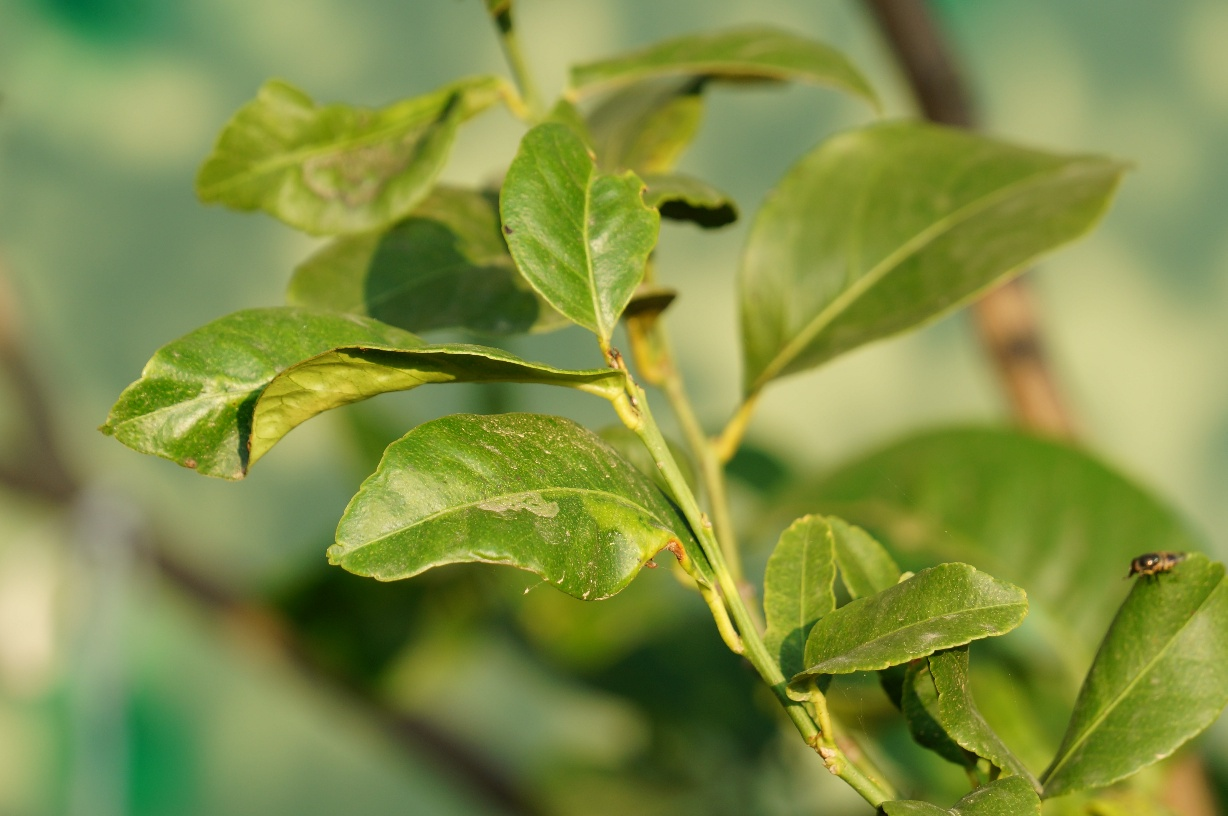damage: (466, 489, 564, 525)
